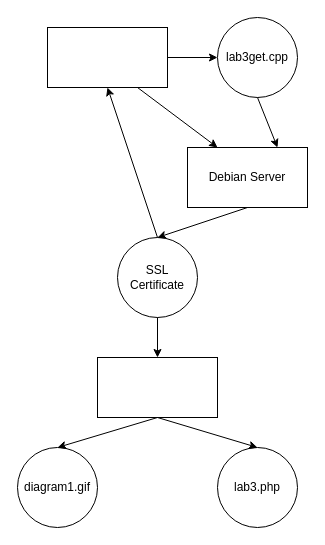
Some shapes in this 325 by 545 pixel diagram are drawn without their labels. The centre of each missing label's shape, as x and y in pixels:
Local Machine: (x=107, y=57)
Odin Server: (x=157, y=387)
